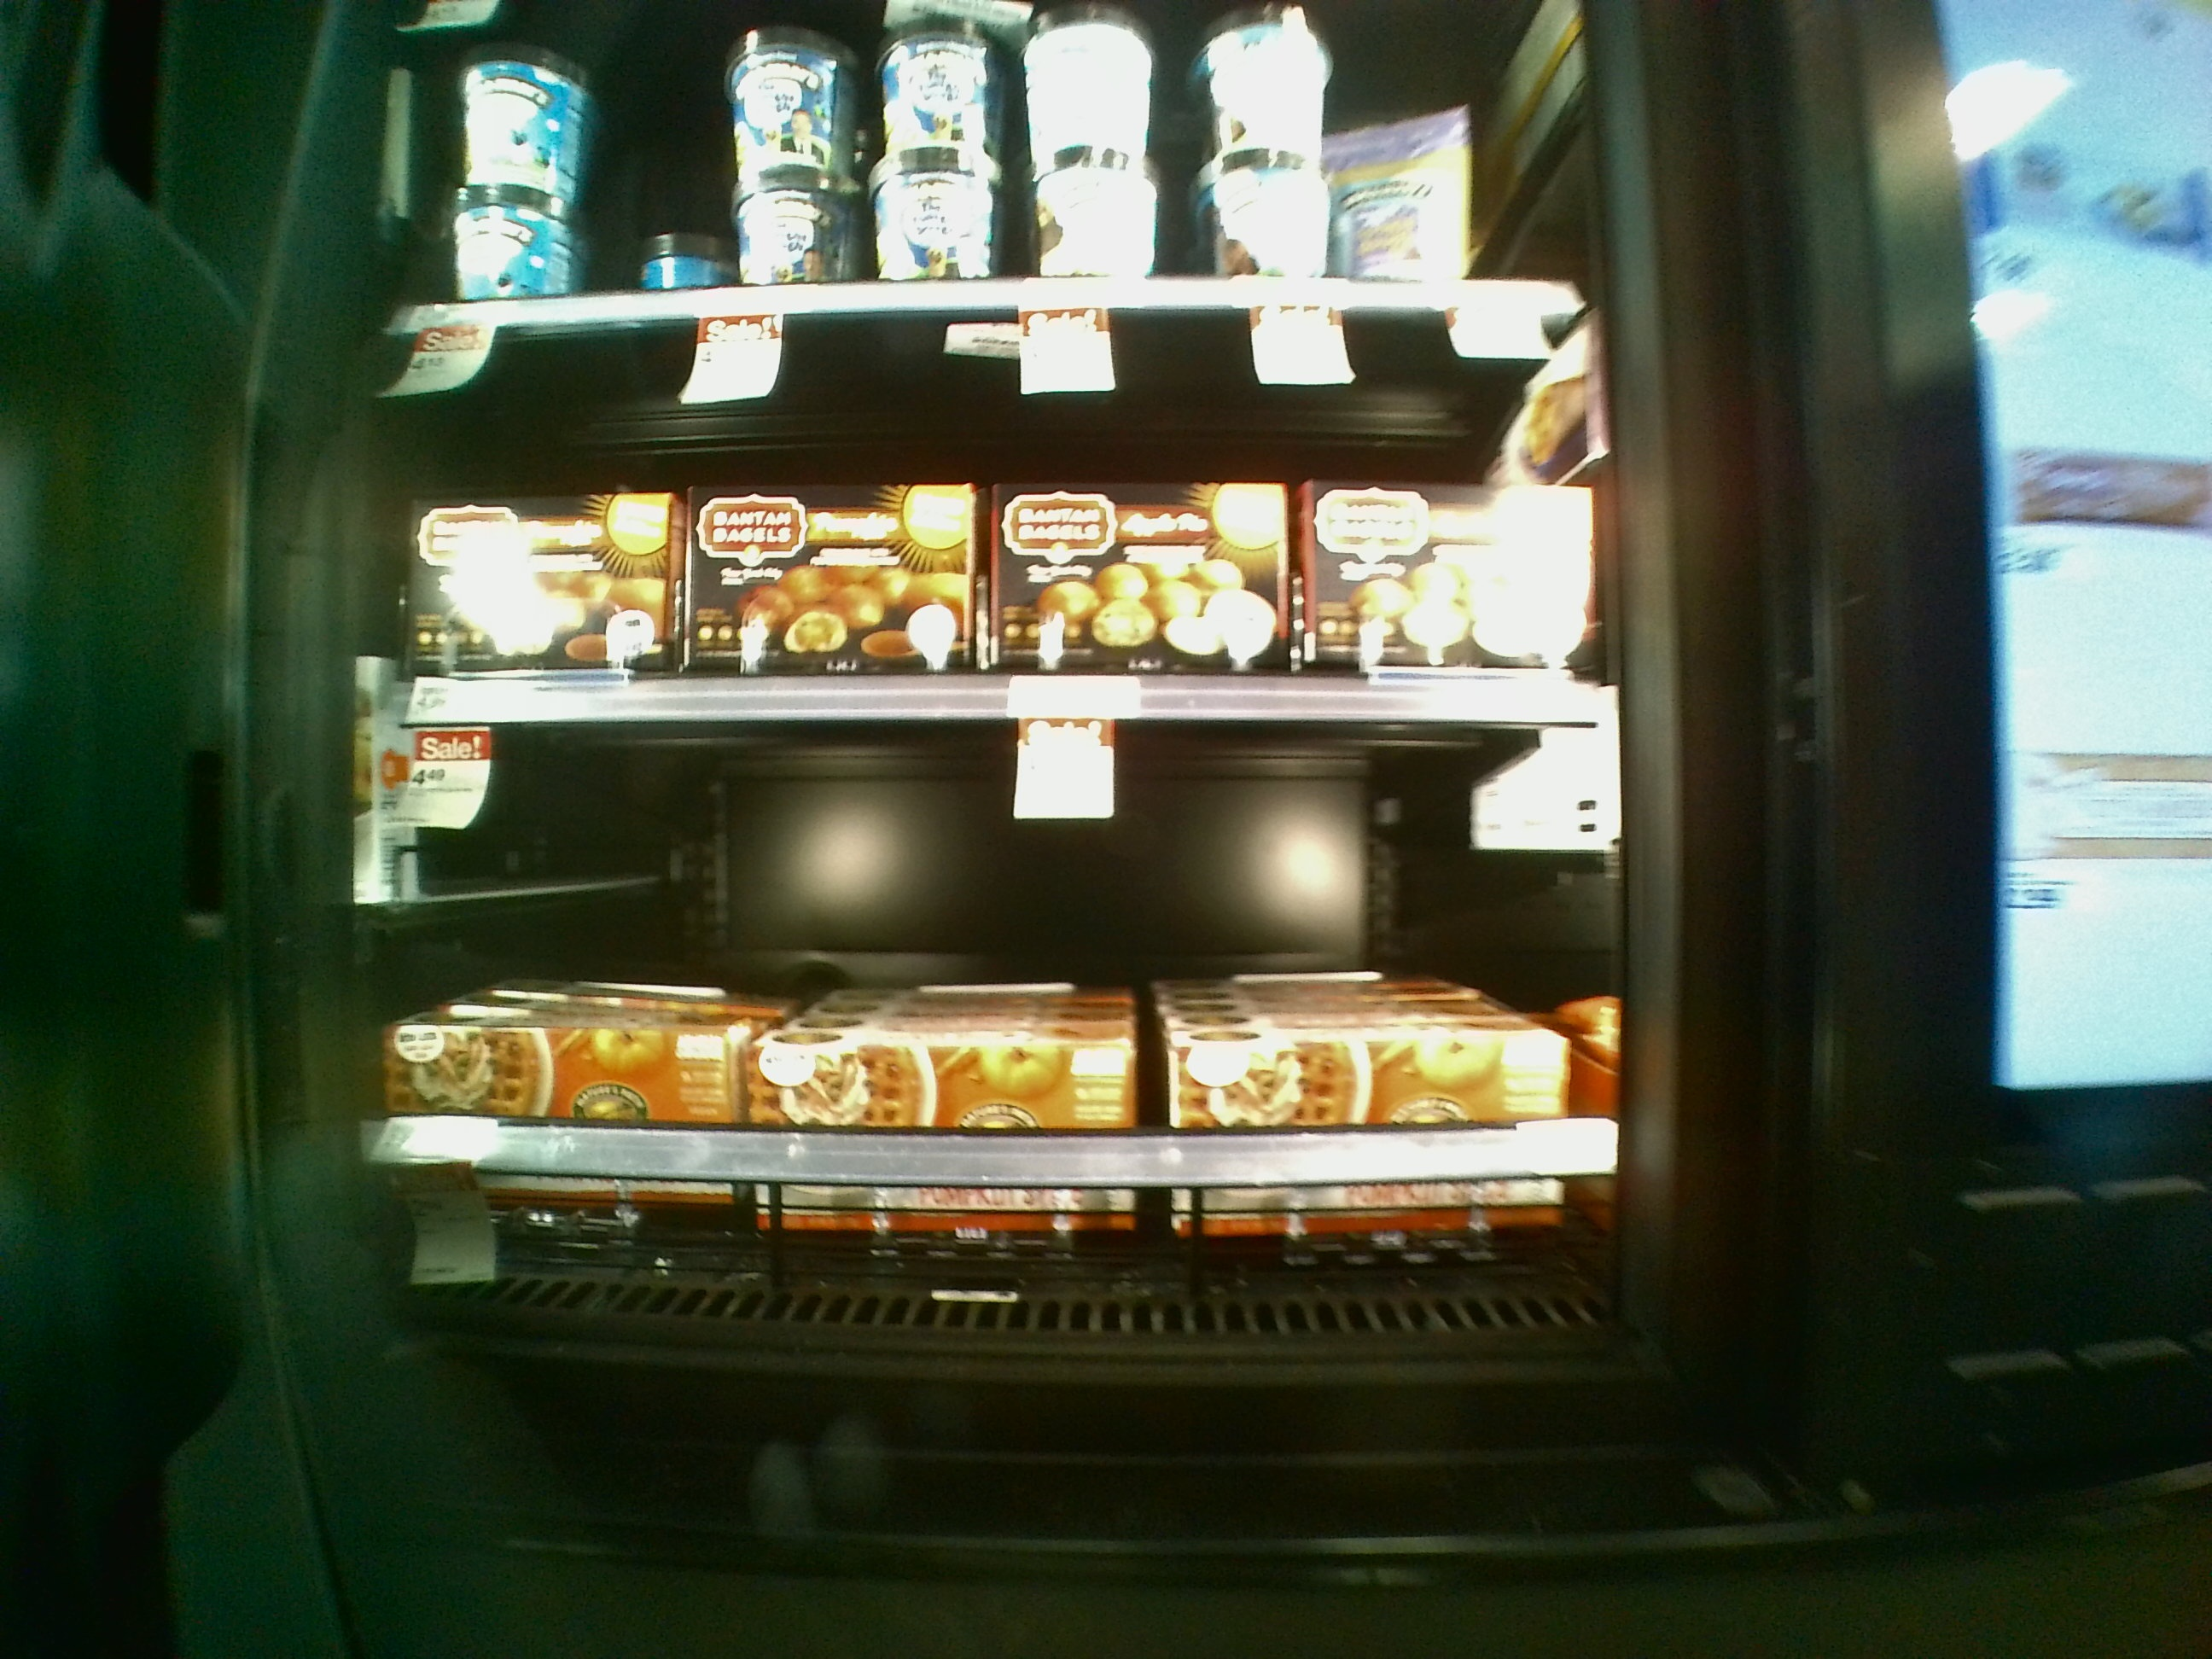shelf: (340, 741, 1625, 1358), (341, 322, 1622, 730)
